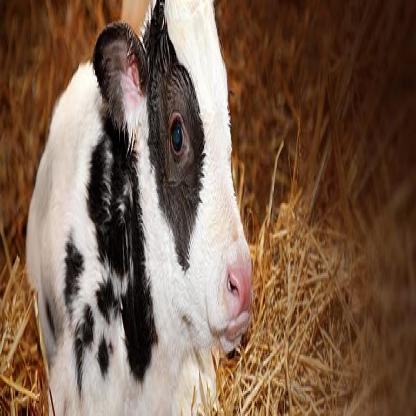cow: (27, 0, 251, 416)
